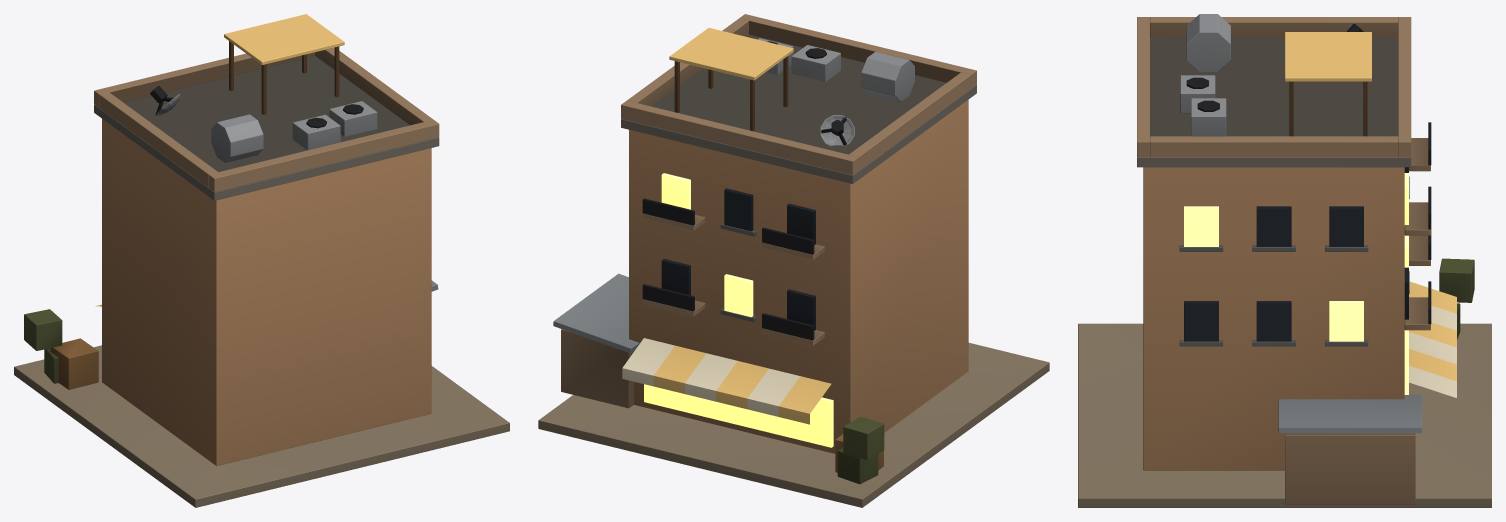
File: apartment.glb
3 views of the same model, side by side, from view 1: azimuth 30°, elevation 25°; view 2: azimuth 150°, elevation 25°; view 3: azimuth 270°, elevation 25° (orthographic). The views are drawn at different scales.
Visible parts, largest first — view 1: apartment; view 2: apartment; view 3: apartment.
Boxes of the visible parts, left/top/right/bottom form: apartment: left=14, top=14, right=509, bottom=507; apartment: left=538, top=14, right=1049, bottom=507; apartment: left=1078, top=14, right=1491, bottom=507.
Size of the model in its own units: 2 by 1.97 by 1.9.
